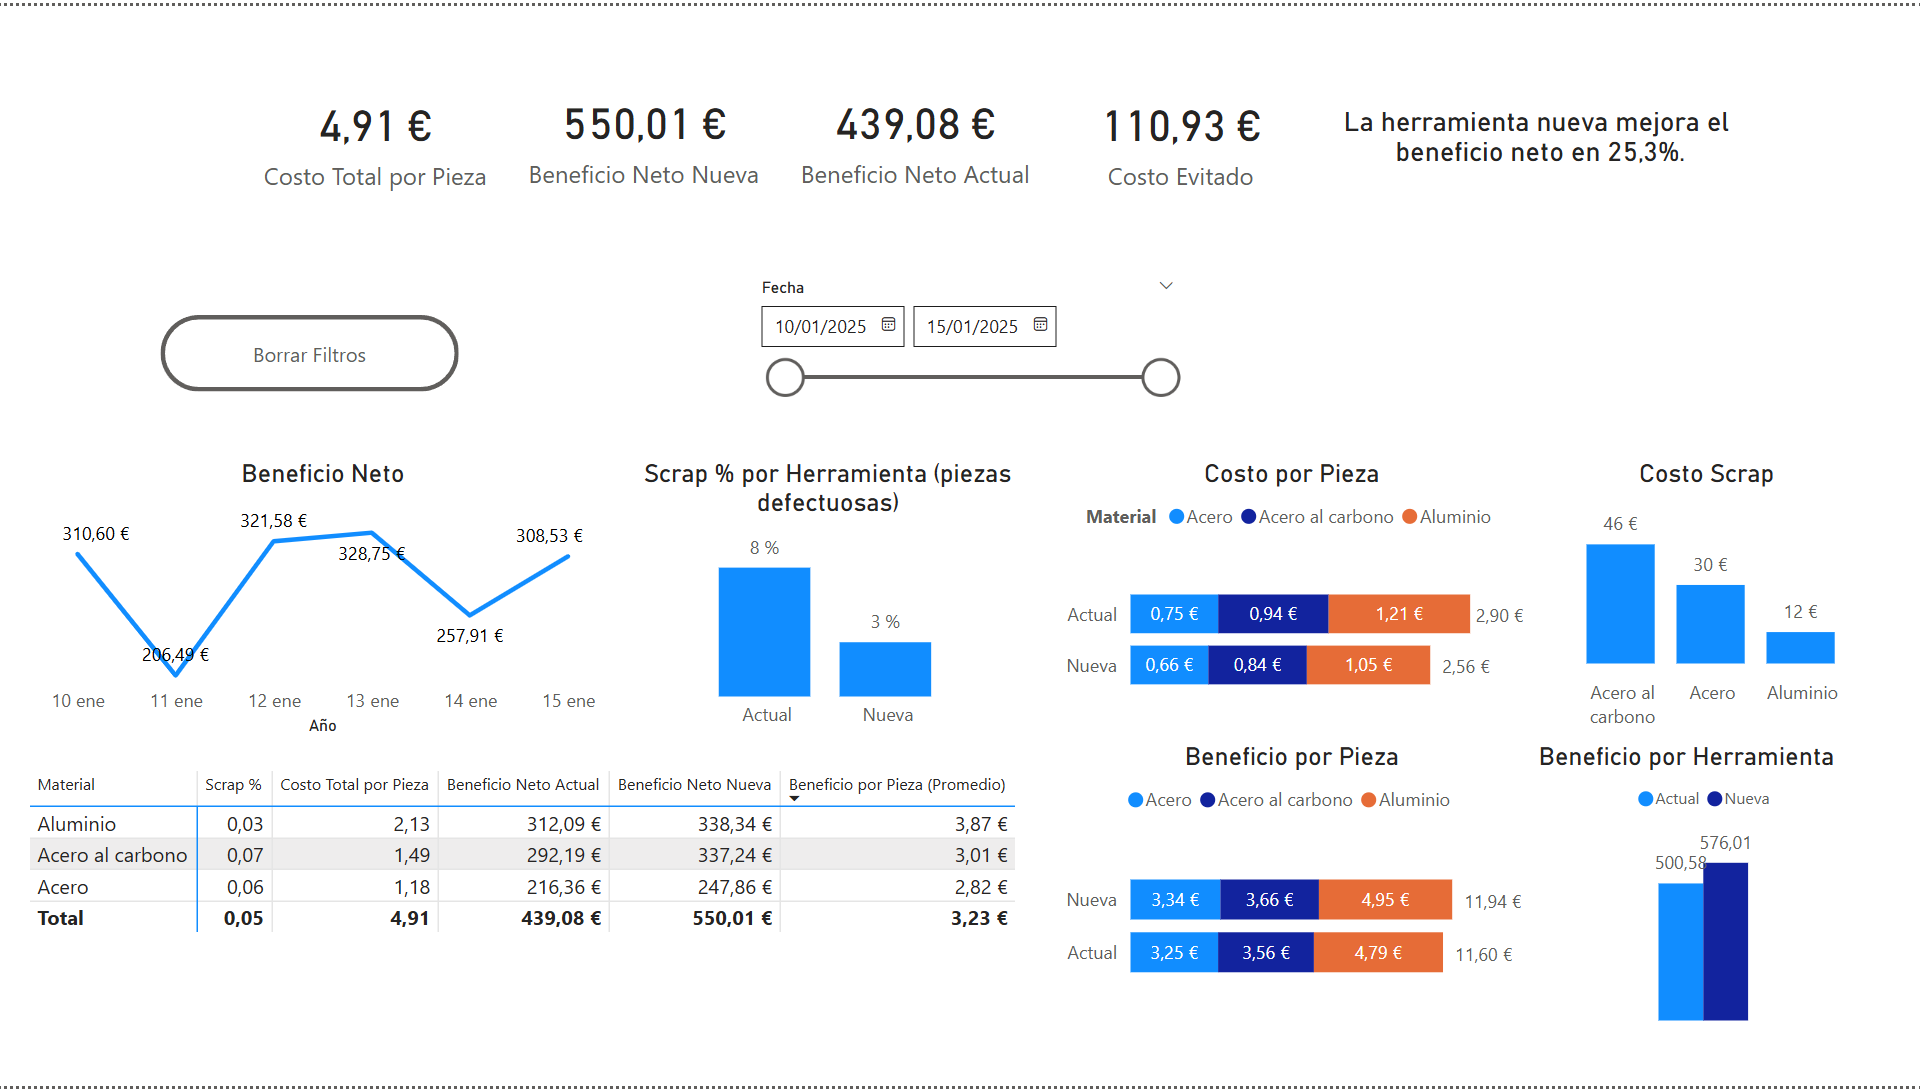

What the dashboard file says about the page in this screenshot:
{"tool":"powerbi","page":{"name":"Página 1","canvas":[1280,720],"ordinal":0},"visuals":[{"type":"barChart","title":"Costo por Pieza","fields":{"Category":["DataSetPlacas.Herramienta"],"Y":["DataSetPlacas.Costo Total por Pieza"],"Series":["DataSetPlacas.Material"]},"box":[701.9,301.1,318.8,188.2],"z":0},{"type":"barChart","title":"Beneficio por Pieza","fields":{"Category":["DataSetPlacas.Herramienta"],"Y":["DataSetPlacas.Beneficio por Pieza"],"Series":["DataSetPlacas.Material"]},"box":[701.9,489.7,318.8,191.9],"z":1000},{"type":"clusteredColumnChart","title":"Beneficio por Herramienta","fields":{"Y":["DataSetPlacas.Beneficio Total"],"Series":["DataSetPlacas.Herramienta"]},"box":[1020.7,489.7,234.2,191.9],"z":2000},{"type":"clusteredColumnChart","title":"Costo Scrap ","fields":{"Category":["DataSetPlacas.Material"],"Y":["DataSetPlacas.Costo Scrap"]},"box":[1020.7,301.1,234.2,188.2],"z":3000},{"type":"pivotTable","fields":{"Values":["DataSetPlacas.Scrap %","DataSetPlacas.Costo Total por Pieza","DataSetPlacas.Beneficio Neto Actual","DataSetPlacas.Beneficio Neto Nueva","DataSetPlacas.Beneficio por Pieza (Promedio)"],"Rows":["DataSetPlacas.Material"]},"box":[0,489.6,701.9,192.6],"z":4000},{"type":"clusteredColumnChart","title":"Scrap % por Herramienta (piezas defectuosas)","fields":{"Y":["DataSetPlacas.Scrap %"],"Category":["DataSetPlacas.Herramienta"]},"box":[402,301.4,299.9,188.2],"z":5000},{"type":"card","fields":{"Values":["DataSetPlacas.Beneficio Neto Actual"]},"box":[520,29.4,180.9,116],"z":6000},{"type":"card","fields":{"Values":["DataSetPlacas.Costo Total por Pieza"]},"box":[160,29.7,180.9,116],"z":8000},{"type":"slicer","fields":{"Values":["DataSetPlacas.Fecha"]},"box":[494.7,175.8,299.9,92.7],"z":9000},{"type":"lineChart","title":"Beneficio Neto","fields":{"Y":["DataSetPlacas.Beneficio Neto"],"Category":["DataSetPlacas.Fecha.Variación.Jerarquía de fechas.Año","DataSetPlacas.Fecha.Variación.Jerarquía de fechas.Trimestre","DataSetPlacas.Fecha.Variación.Jerarquía de fechas.Mes","DataSetPlacas.Fecha.Variación.Jerarquía de fechas.Día"]},"box":[29.2,301.3,372.8,188.2],"z":10000},{"type":"card","fields":{"Values":["DataSetPlacas.Beneficio Neto Nueva"]},"box":[339,29.4,181,116],"z":11000},{"type":"actionButton","box":[106.5,206.5,199.9,50.3],"z":12000},{"type":"card","fields":{"Values":["DataSetPlacas.Costo Evitado"]},"box":[700.7,29.7,173.7,116],"z":12002},{"type":"card","fields":{"Values":["DataSetPlacas.Comentario Automático"]},"box":[874.1,29.4,305.7,116],"z":12003}]}

Visuals, with their boxes in screenshot pixels (x1, y1, x2, y2), scaled from the page's 1280x720 canvas onto the 1920x1089 screenshot:
"Costo por Pieza" barChart: x1=1053, y1=455, x2=1531, y2=740
"Beneficio por Pieza" barChart: x1=1053, y1=741, x2=1531, y2=1031
"Beneficio por Herramienta" clusteredColumnChart: x1=1531, y1=741, x2=1882, y2=1031
"Costo Scrap " clusteredColumnChart: x1=1531, y1=455, x2=1882, y2=740
pivotTable - DataSetPlacas.Scrap % x DataSetPlacas.Costo Total por Pieza: x1=0, y1=741, x2=1053, y2=1032
"Scrap % por Herramienta (piezas defectuosas)" clusteredColumnChart: x1=603, y1=456, x2=1053, y2=741
card - DataSetPlacas.Beneficio Neto Actual: x1=780, y1=44, x2=1051, y2=220
card - DataSetPlacas.Costo Total por Pieza: x1=240, y1=45, x2=511, y2=220
slicer - DataSetPlacas.Fecha: x1=742, y1=266, x2=1192, y2=406
"Beneficio Neto" lineChart: x1=44, y1=456, x2=603, y2=740
card - DataSetPlacas.Beneficio Neto Nueva: x1=508, y1=44, x2=780, y2=220
actionButton: x1=160, y1=312, x2=460, y2=388
card - DataSetPlacas.Costo Evitado: x1=1051, y1=45, x2=1312, y2=220
card - DataSetPlacas.Comentario Automático: x1=1311, y1=44, x2=1770, y2=220
